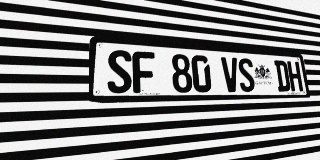0: (191, 55, 212, 92)
8: (171, 53, 193, 93)
D: (274, 60, 291, 92)
F: (132, 51, 156, 93)
H: (287, 61, 303, 91)
S: (107, 49, 132, 93), (237, 58, 256, 92)
V: (221, 57, 240, 92)
